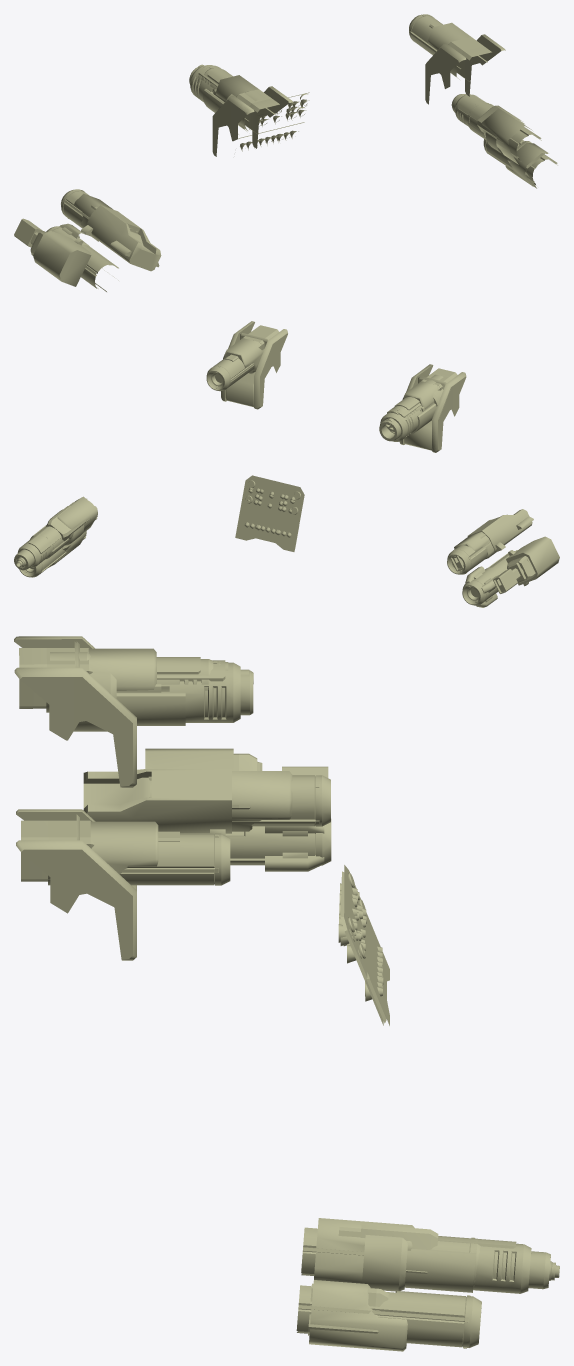
File: DragonWeapons.glb
3 renders of one model, top to bottom at view 1: azimuth 30°, elevation 25°; view 2: azimuth 150°, elevation 25°; view 3: azimuth 270°, elevation 25°, orthographic. The views are drawn at different scales.
Visible parts, largest first — view 1: Forearm_Left_EH2_Laser, Forearm_Left_EH1_Laser, Torso_Right_EH1_PPC, Torso_Right_EH1_Flamer, Forearm_Right_EH1_PPC, Torso_Right_EH1_Laser, Forearm_Right_EH2_PPC, Forearm_Left_EH2_PPC, Forearm_Right_BH1_AC10, Torso_Left_BH1_AC10, Torso_Left_BH1_AC20, Forearm_Left_EH1_PPC (+6 smaller); view 2: Torso_Center_MH1_Blank, Torso_Right_EH1_PPC, Torso_Left_BH1_AC20, Torso_Right_EH1_Flamer, Forearm_Left_EH1_PPC, Forearm_Right_BH1_AC10, Forearm_Left_EH2_PPC, Forearm_Left_EH1_Laser, Forearm_Left_EH2_Laser, Torso_Left_BH1_AC10, Forearm_Right_EH1_PPC, Forearm_Left_EH1_Flamer (+6 smaller); view 3: Forearm_Right_EH2_PPC, Forearm_Right_BH1_AC10, Forearm_Left_EH2_PPC, Torso_Right_EH1_PPC, Torso_Left_BH1_AC20, Torso_Right_EH1_Flamer, Torso_Left_EH1_PPC, Forearm_Left_EH2_Laser, Torso_Right_EH1_Laser, Forearm_Left_EH1_PPC, Forearm_Right_EH1_PPC, Torso_Left_BH1_AC10 (+7 smaller).
Part boxes in pixels (x1=…): Forearm_Left_EH2_Laser: x1=81, y1=204, x2=161, y2=270; Forearm_Left_EH1_Laser: x1=30, y1=230, x2=91, y2=286; Torso_Right_EH1_PPC: x1=409, y1=14, x2=504, y2=103; Torso_Right_EH1_Flamer: x1=425, y1=22, x2=505, y2=102; Forearm_Right_EH1_PPC: x1=467, y1=102, x2=541, y2=164; Torso_Right_EH1_Laser: x1=425, y1=39, x2=500, y2=104; Forearm_Right_EH2_PPC: x1=483, y1=139, x2=557, y2=186; Forearm_Left_EH2_PPC: x1=61, y1=189, x2=159, y2=270; Forearm_Right_BH1_AC10: x1=451, y1=94, x2=522, y2=152; Torso_Left_BH1_AC10: x1=201, y1=68, x2=288, y2=150; Torso_Left_BH1_AC20: x1=189, y1=65, x2=247, y2=134; Forearm_Left_EH1_PPC: x1=46, y1=223, x2=118, y2=291; Torso_Center_MH1_Blank: x1=235, y1=475, x2=304, y2=551; Torso_Right_EH1_PPC: x1=206, y1=321, x2=287, y2=408; Torso_Left_BH1_AC20: x1=379, y1=365, x2=465, y2=451; Torso_Right_EH1_Flamer: x1=221, y1=321, x2=287, y2=408; Forearm_Left_EH1_PPC: x1=462, y1=550, x2=517, y2=607; Forearm_Right_BH1_AC10: x1=14, y1=509, x2=84, y2=570; Forearm_Left_EH2_PPC: x1=447, y1=525, x2=521, y2=574; Forearm_Left_EH1_Laser: x1=506, y1=536, x2=559, y2=586; Forearm_Left_EH2_Laser: x1=468, y1=509, x2=533, y2=553; Torso_Left_BH1_AC10: x1=386, y1=365, x2=465, y2=452; Forearm_Right_EH1_PPC: x1=32, y1=496, x2=97, y2=557; Forearm_Left_EH1_Flamer: x1=493, y1=552, x2=559, y2=593; Forearm_Right_EH2_PPC: x1=296, y1=1280, x2=481, y2=1351; Forearm_Right_BH1_AC10: x1=362, y1=1235, x2=550, y2=1293; Forearm_Left_EH2_PPC: x1=87, y1=771, x2=330, y2=833; Torso_Right_EH1_PPC: x1=16, y1=809, x2=230, y2=956; Torso_Left_BH1_AC20: x1=26, y1=636, x2=253, y2=785; Torso_Right_EH1_Flamer: x1=16, y1=809, x2=179, y2=958; Torso_Left_EH1_PPC: x1=14, y1=637, x2=220, y2=785; Forearm_Left_EH2_Laser: x1=83, y1=769, x2=250, y2=835; Torso_Right_EH1_Laser: x1=16, y1=812, x2=136, y2=960; Forearm_Left_EH1_PPC: x1=180, y1=819, x2=331, y2=871; Forearm_Right_EH1_PPC: x1=301, y1=1218, x2=480, y2=1289; Torso_Left_BH1_AC10: x1=50, y1=639, x2=213, y2=787.
Bounding box in the file's own units: 2.29 × 0.9638 × 1.18.
